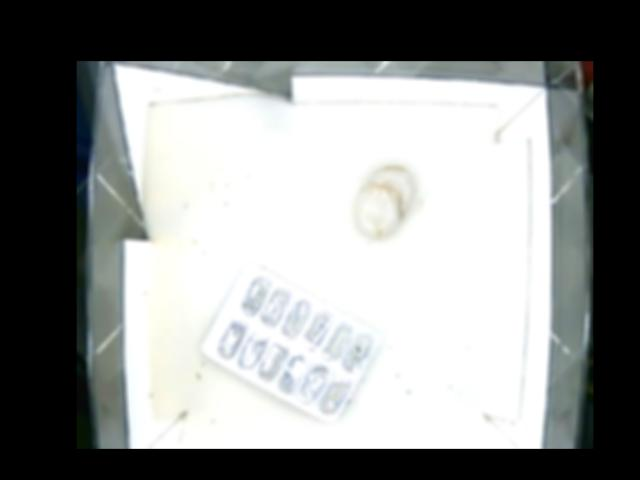Medicine: (198, 262, 381, 421)
Pebble: (352, 163, 417, 240)
